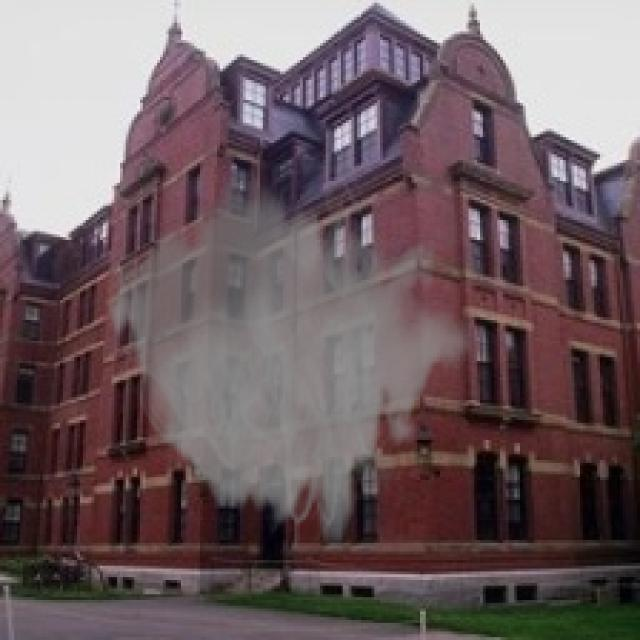Smoke: (106, 143, 474, 563)
